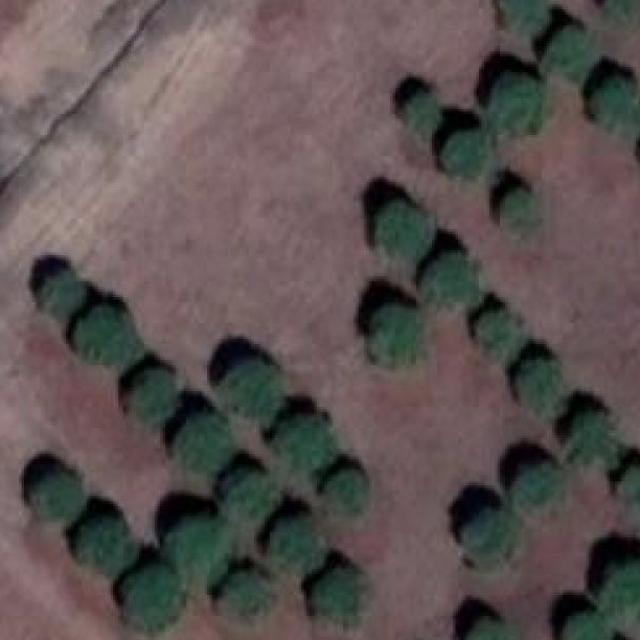Tree: (160, 512, 234, 580), (362, 297, 426, 366), (487, 67, 548, 132), (372, 198, 432, 259), (127, 574, 187, 634), (312, 569, 371, 630), (461, 509, 520, 568), (283, 417, 343, 475), (510, 459, 567, 519), (221, 360, 281, 417), (263, 514, 323, 571), (427, 258, 479, 321), (82, 305, 137, 364), (76, 520, 133, 572), (435, 124, 493, 174), (594, 77, 640, 135), (542, 28, 595, 78), (170, 421, 224, 468), (220, 475, 266, 530), (30, 473, 80, 522), (228, 572, 272, 626), (472, 308, 520, 357), (516, 360, 562, 410), (128, 374, 174, 422), (496, 188, 540, 238), (40, 273, 87, 319), (604, 559, 640, 619), (568, 412, 614, 458), (322, 472, 368, 516), (560, 610, 615, 640), (494, 0, 544, 32), (466, 616, 516, 640), (617, 464, 640, 512), (404, 91, 437, 124), (597, 0, 640, 24)
